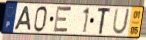0: (33, 5, 49, 33)
1: (82, 8, 91, 35)
A: (13, 6, 32, 32)
E: (52, 5, 73, 35)
T: (97, 7, 113, 36)
U: (111, 8, 131, 36)
